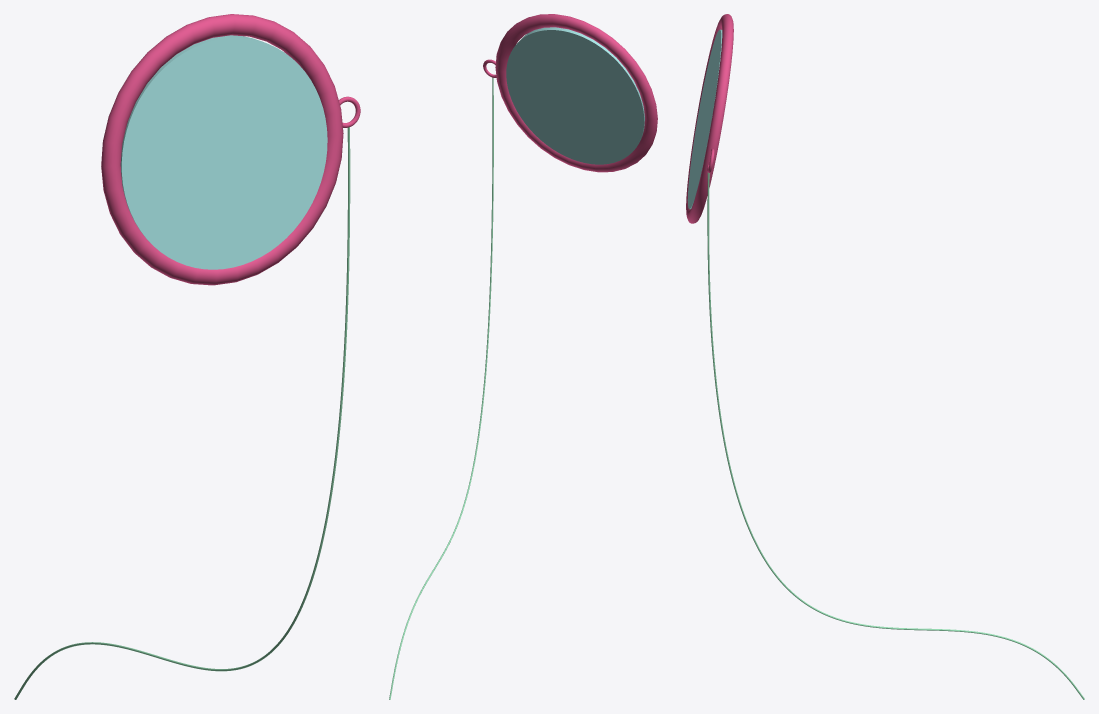
File: monokel000.obj
The picture shows the model from 3 angles, left to right: view 1: azimuth 30°, elevation 25°; view 2: azimuth 150°, elevation 25°; view 3: azimuth 270°, elevation 25°; orthographic projection. The views are drawn at different scales.
Visible parts, largest first — view 1: Cylinder001, Torus001, Cylinder002; view 2: Cylinder001, Torus001, Cylinder002; view 3: Torus001, Cylinder001, Cylinder002.
Part boxes in pixels (x1=…): Cylinder001: x1=120, y1=35, x2=327, y2=269; Torus001: x1=101, y1=14, x2=343, y2=285; Cylinder002: x1=14, y1=127, x2=350, y2=699; Cylinder001: x1=506, y1=27, x2=644, y2=164; Torus001: x1=495, y1=14, x2=657, y2=172; Cylinder002: x1=389, y1=77, x2=493, y2=699; Torus001: x1=686, y1=14, x2=733, y2=223; Cylinder001: x1=687, y1=29, x2=722, y2=209; Cylinder002: x1=707, y1=172, x2=1084, y2=699.
Bounding box in the file's own units: 0.769 × 2.45 × 1.34.
